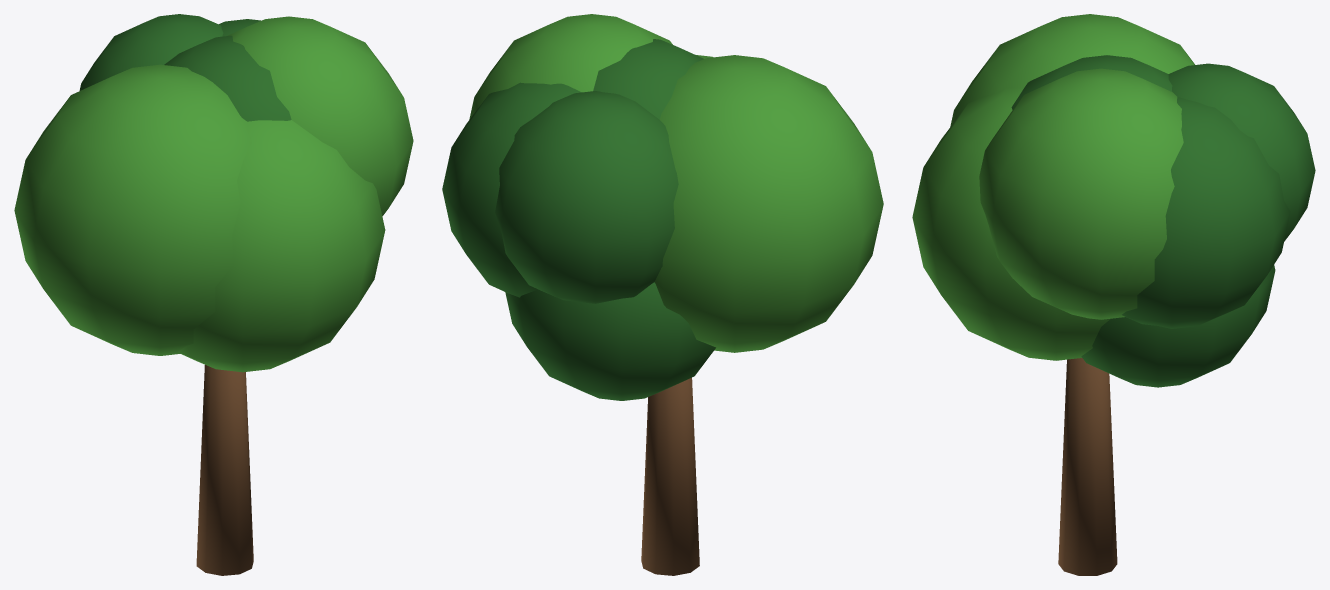
File: prop_pohon_mangga.glb
The picture shows the model from 3 angles, left to right: view 1: azimuth 30°, elevation 25°; view 2: azimuth 150°, elevation 25°; view 3: azimuth 270°, elevation 25°; orthographic projection. The views are drawn at different scales.
Parts seen in each view (by area): view 1: pohon_mangga; view 2: pohon_mangga; view 3: pohon_mangga.
Part boxes in pixels (x1,y1,x2,y2): pohon_mangga: [14, 14, 413, 575]; pohon_mangga: [442, 14, 883, 575]; pohon_mangga: [912, 14, 1315, 575].
Size of the model in its own units: 4.07 by 5.42 by 3.82.
